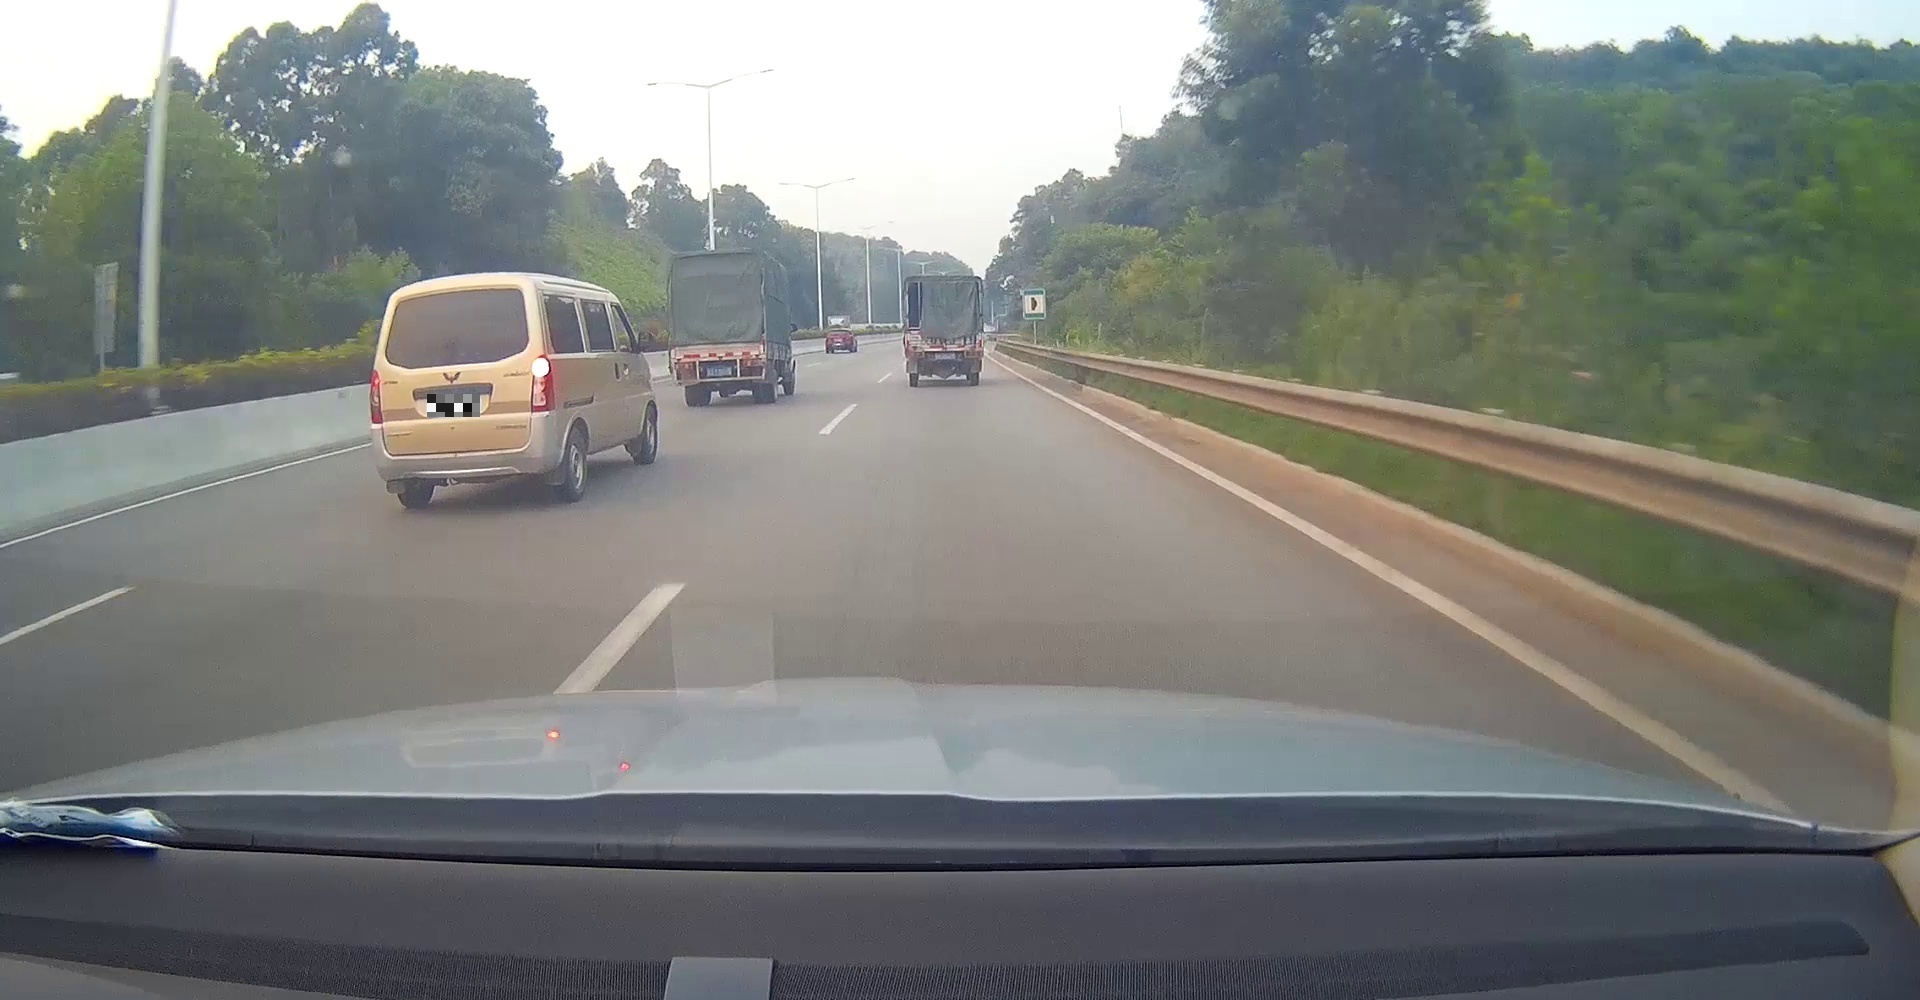L_light: (370, 369, 383, 424), (674, 363, 693, 371), (909, 352, 924, 358)
R_light: (530, 354, 556, 412), (742, 359, 763, 367), (964, 352, 983, 358)
T_light: (441, 291, 470, 294), (712, 357, 728, 360), (938, 349, 952, 352)
day-no: (669, 247, 767, 407), (905, 275, 984, 387)
day-right: (368, 272, 557, 509)
plate_1: (427, 393, 480, 418)
